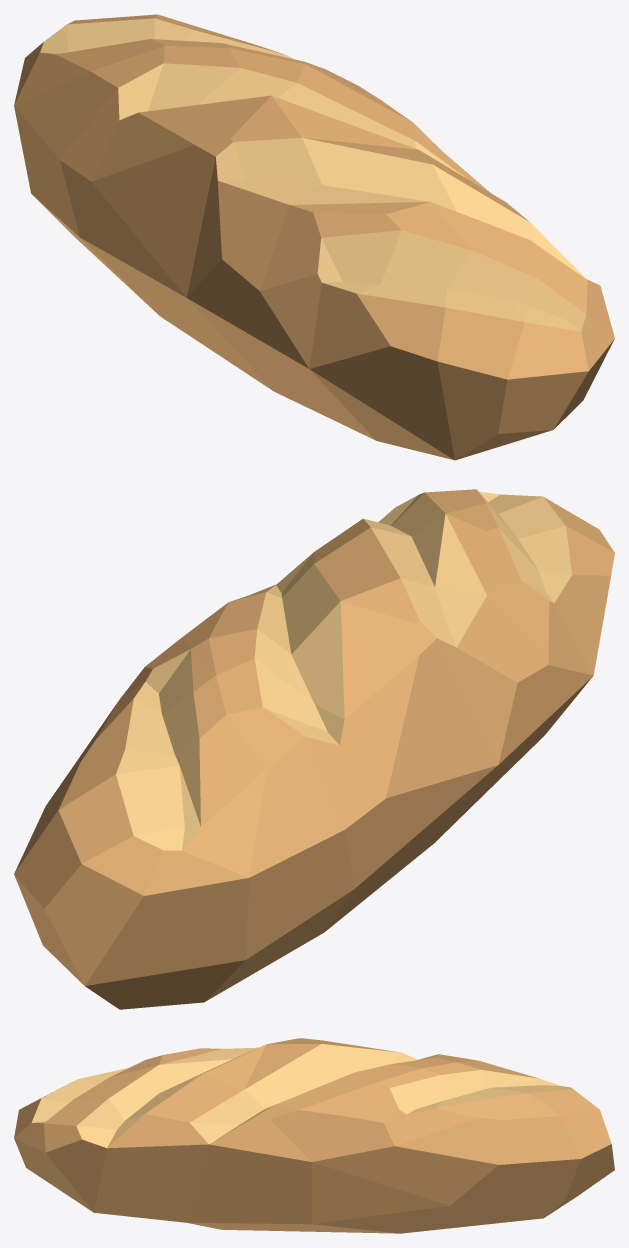
Rendered from bread.fbx.
3 renders of one model, top to bottom at view 1: azimuth 30°, elevation 25°; view 2: azimuth 150°, elevation 25°; view 3: azimuth 270°, elevation 25°, orthographic. The views are drawn at different scales.
Parts seen in each view (by area): view 1: retop; view 2: retop; view 3: retop.
Boxes of the visible parts, bbox=[...] form: retop: bbox=[14, 14, 614, 460]; retop: bbox=[14, 489, 614, 1009]; retop: bbox=[14, 1038, 614, 1233].
Bounding box in the file's own units: 182 × 170 × 544.
